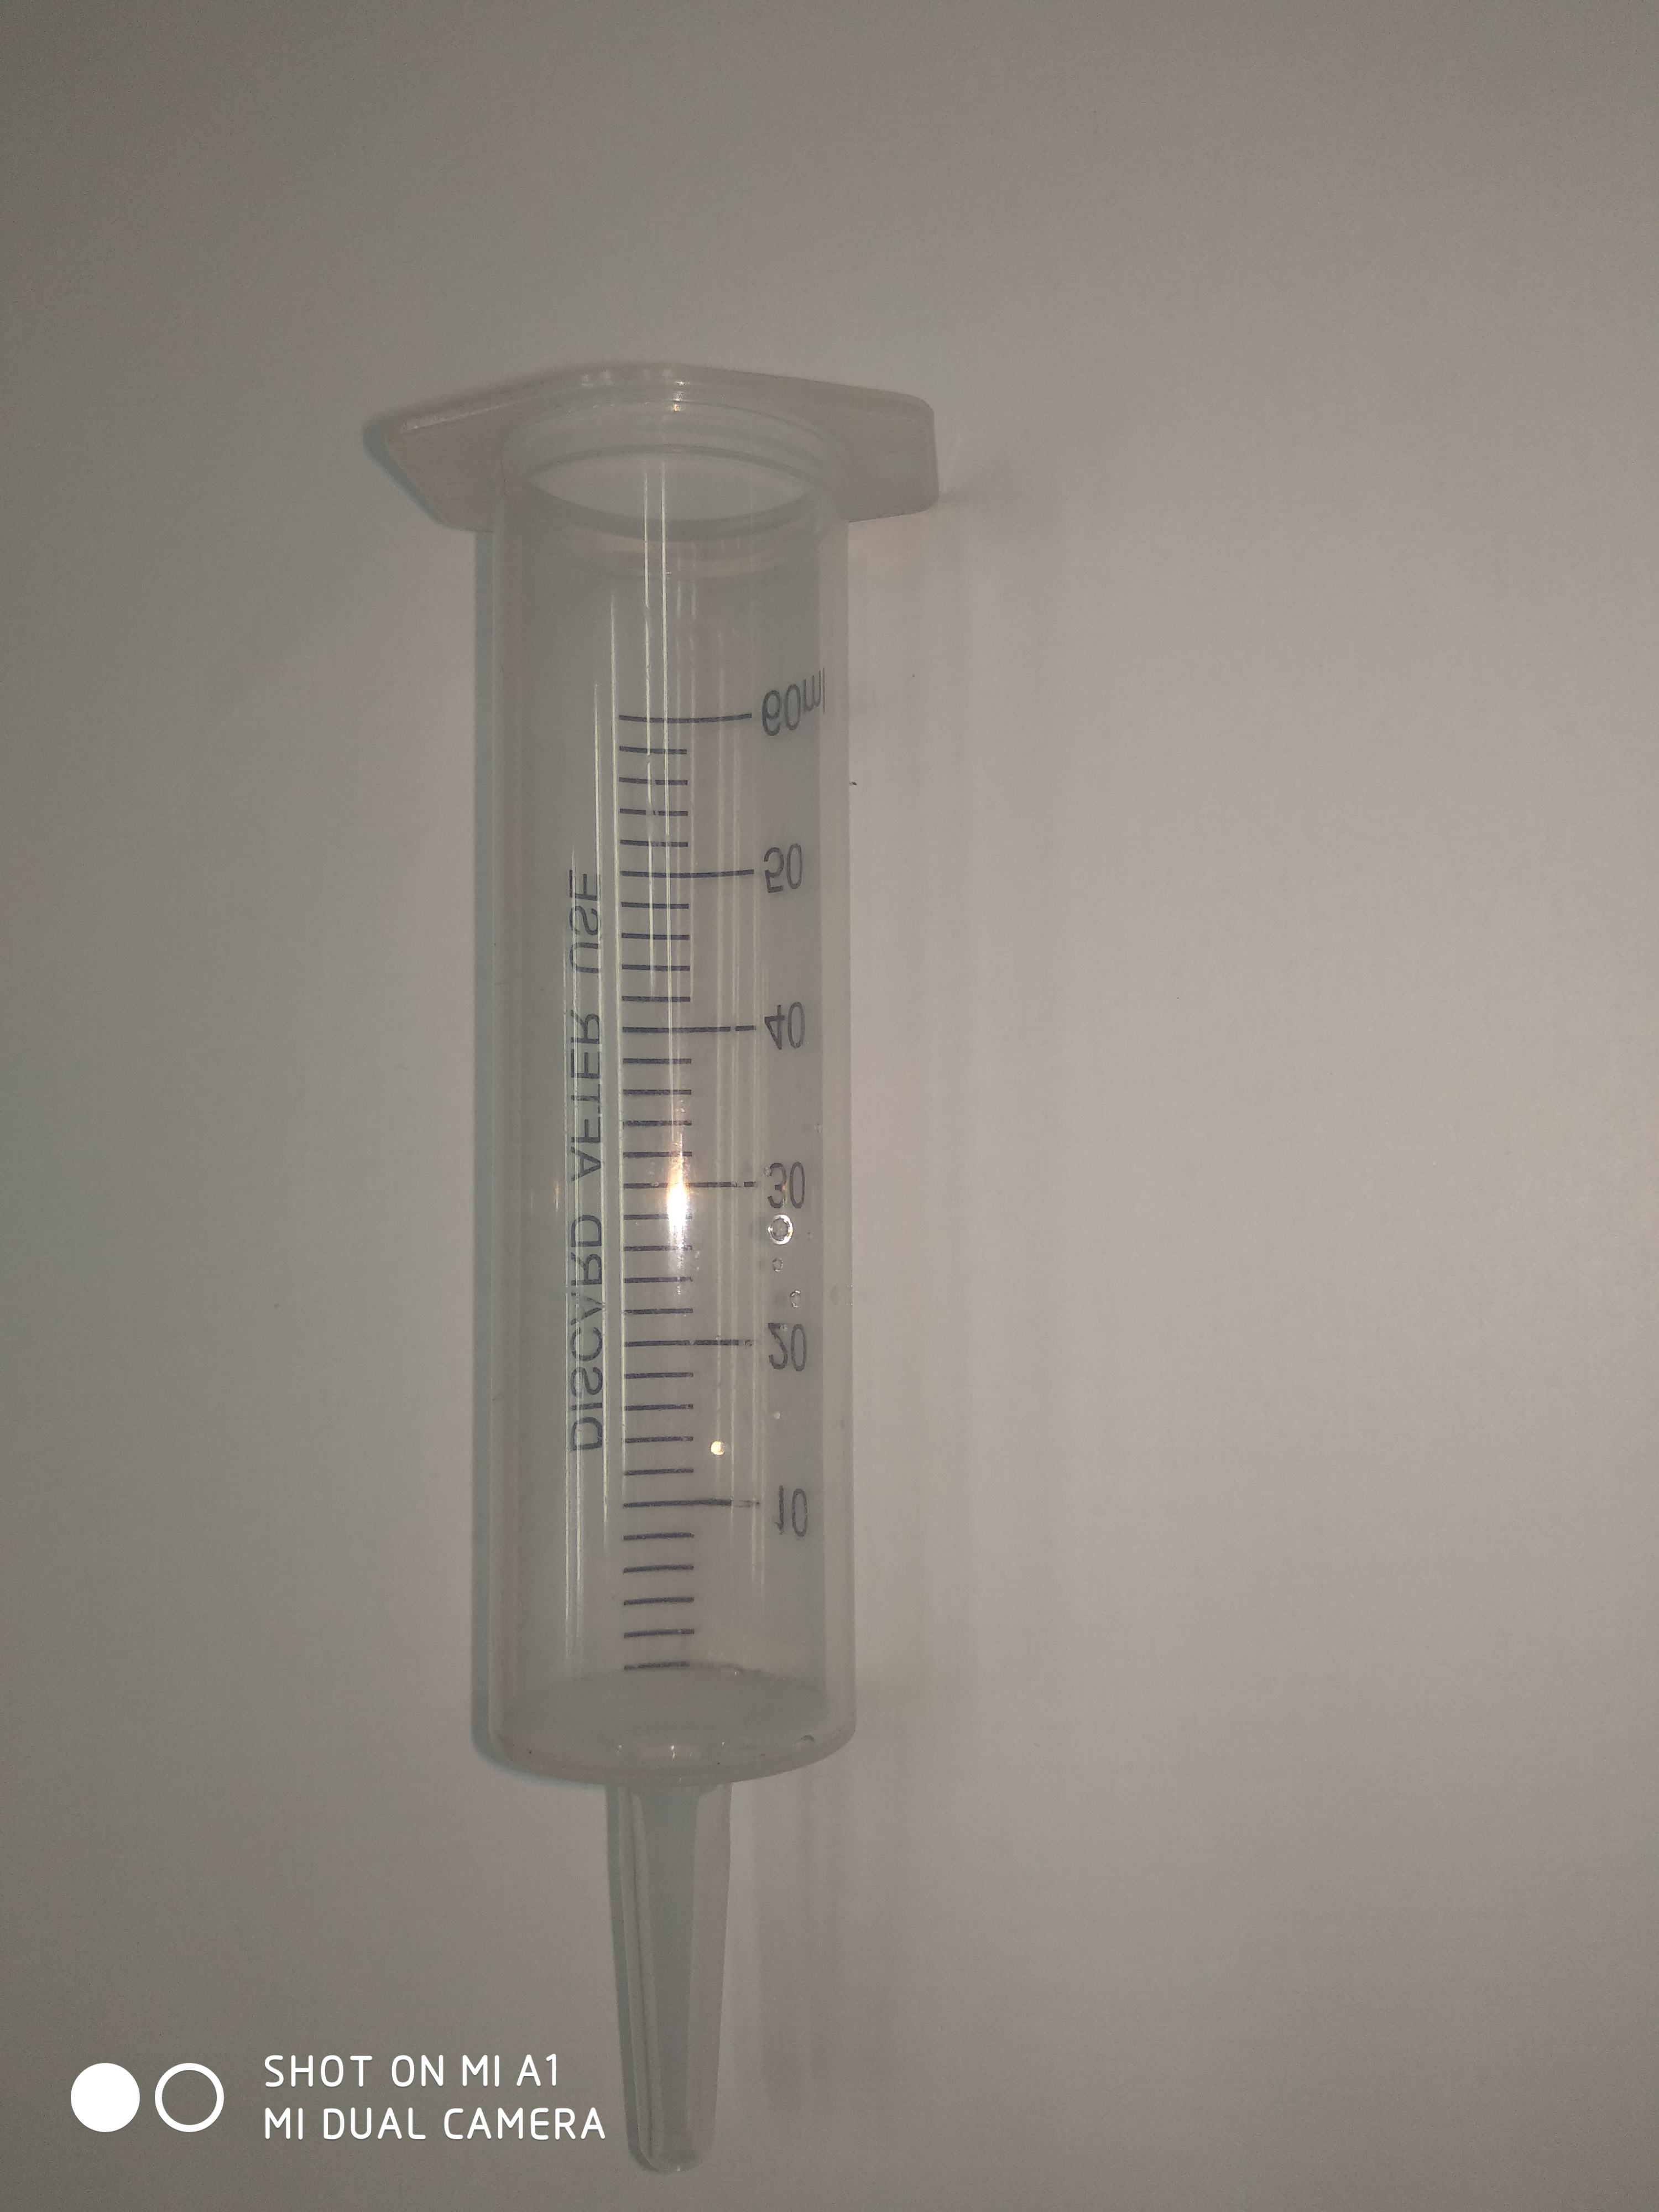syringe: (354, 350, 957, 2174)
